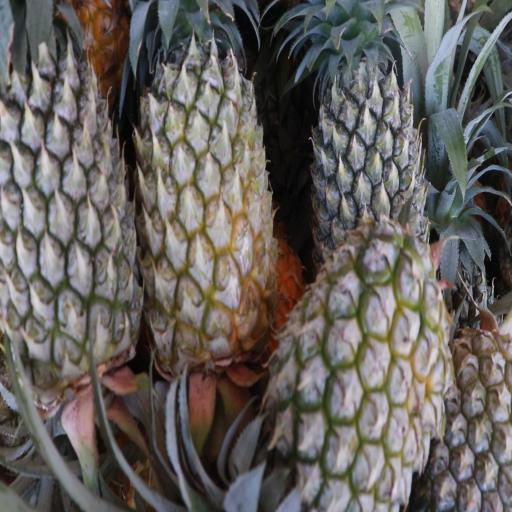------------------------------: (135, 0, 270, 367), (276, 241, 447, 508)
